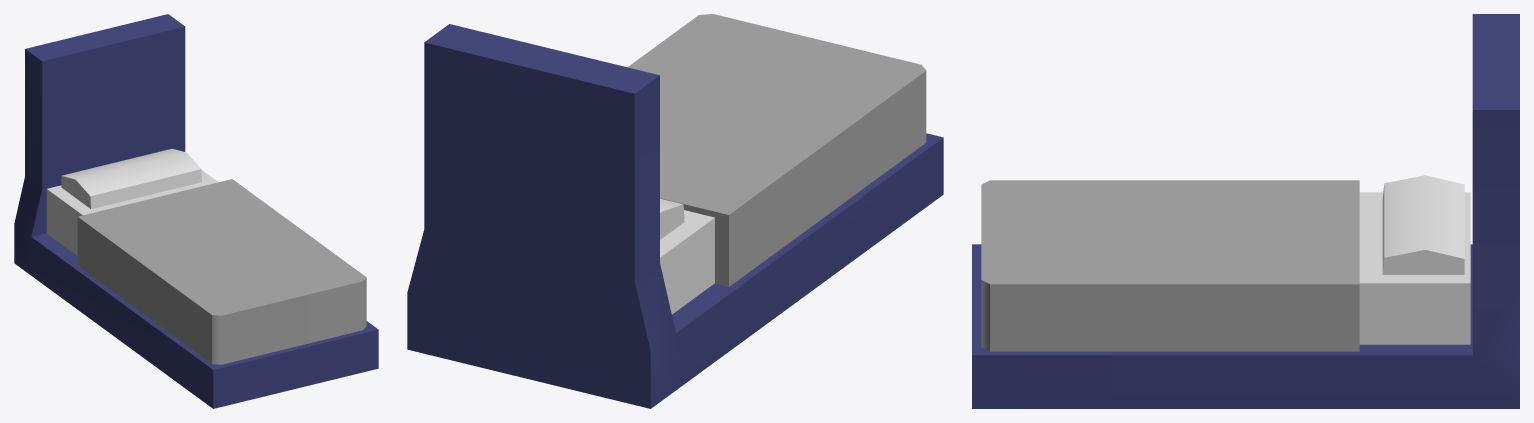
Rendered from Yatağımız.fbx.
3 renders of one model, left to right at view 1: azimuth 30°, elevation 25°; view 2: azimuth 150°, elevation 25°; view 3: azimuth 270°, elevation 25°, orthographic. The views are drawn at different scales.
Parts seen in each view (by area): view 1: pCube5; view 2: pCube5; view 3: pCube5.
Boxes of the visible parts, left/top/right/bottom form: pCube5: left=14, top=14, right=378, bottom=408; pCube5: left=407, top=14, right=943, bottom=408; pCube5: left=972, top=14, right=1519, bottom=408.
Size of the model in its own units: 1.72 by 2.1 by 3.59.
